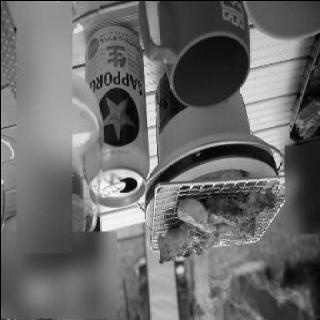alumunium_can: (82, 23, 150, 208)
